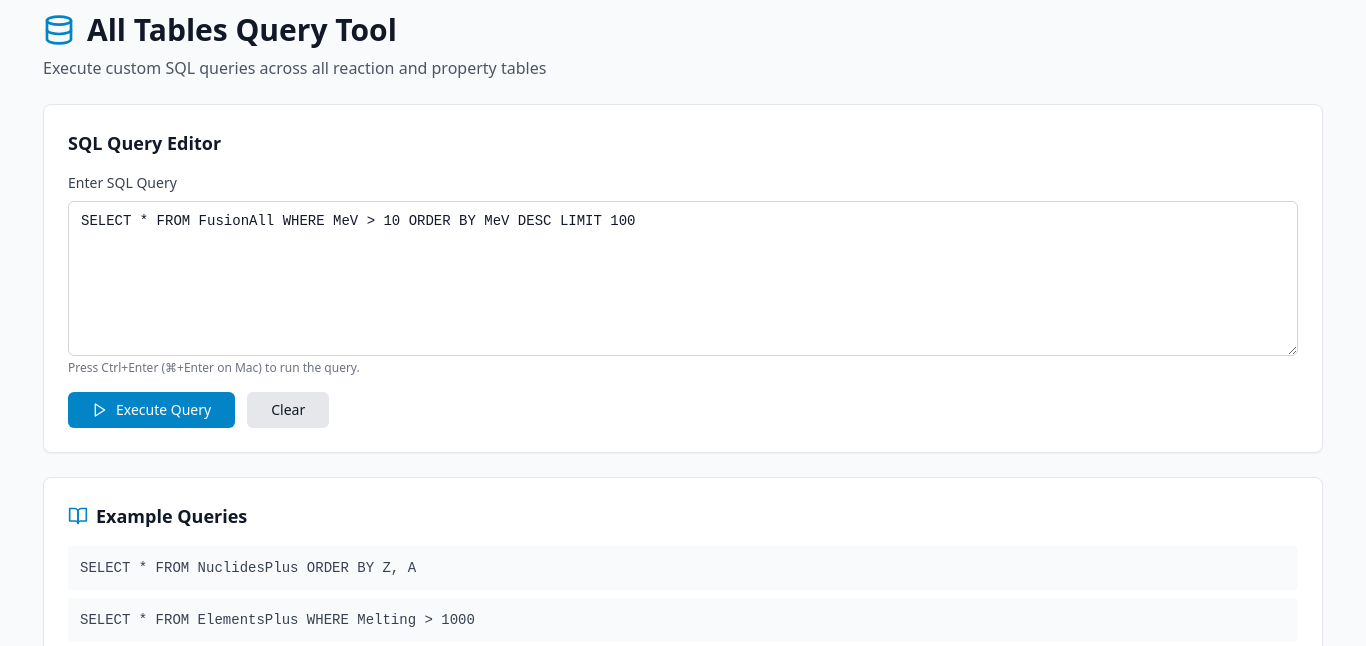
Scenario: AllTables › shows error for destructive queries
This screenshot has width=1366, height=646.
Replace the text in the text box with placeholder "SELECT * FROM TableName WHERE ..." with "DROP TABLE FusionAll" at {"x": 683, "y": 278}, box [68, 201, 1298, 356]
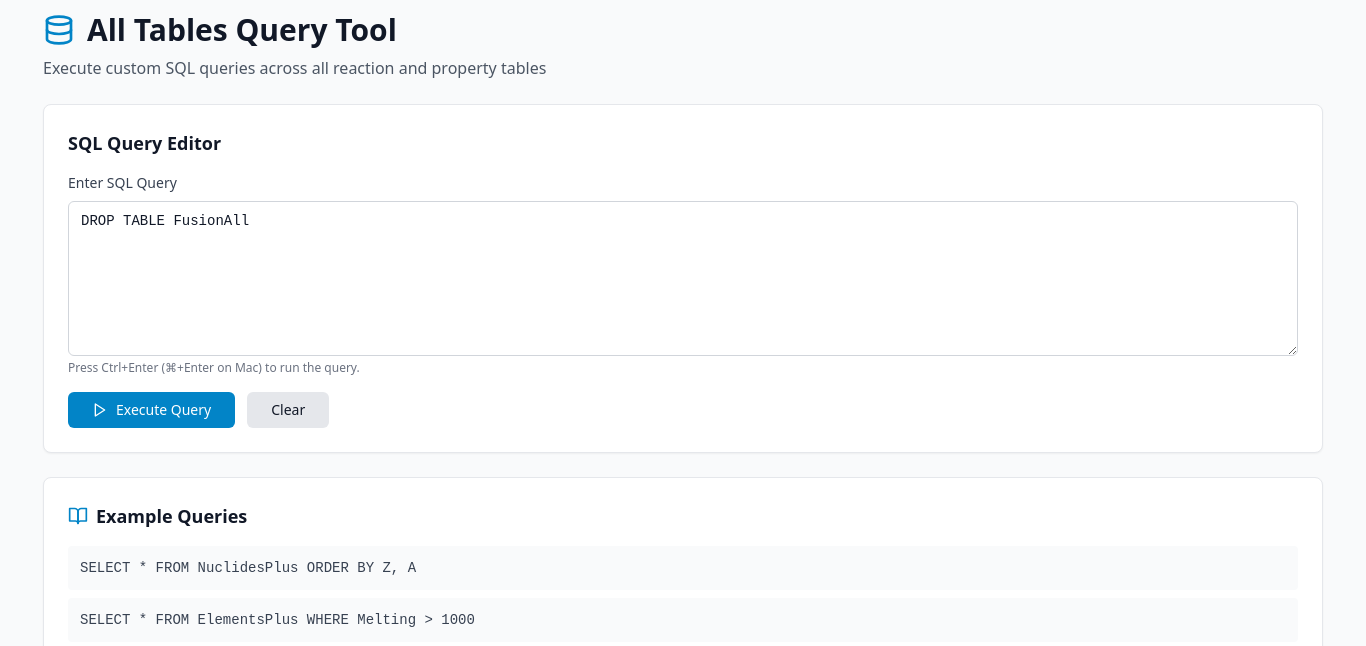
Click the button "Execute Query" at {"x": 152, "y": 410}, box [68, 392, 235, 428]
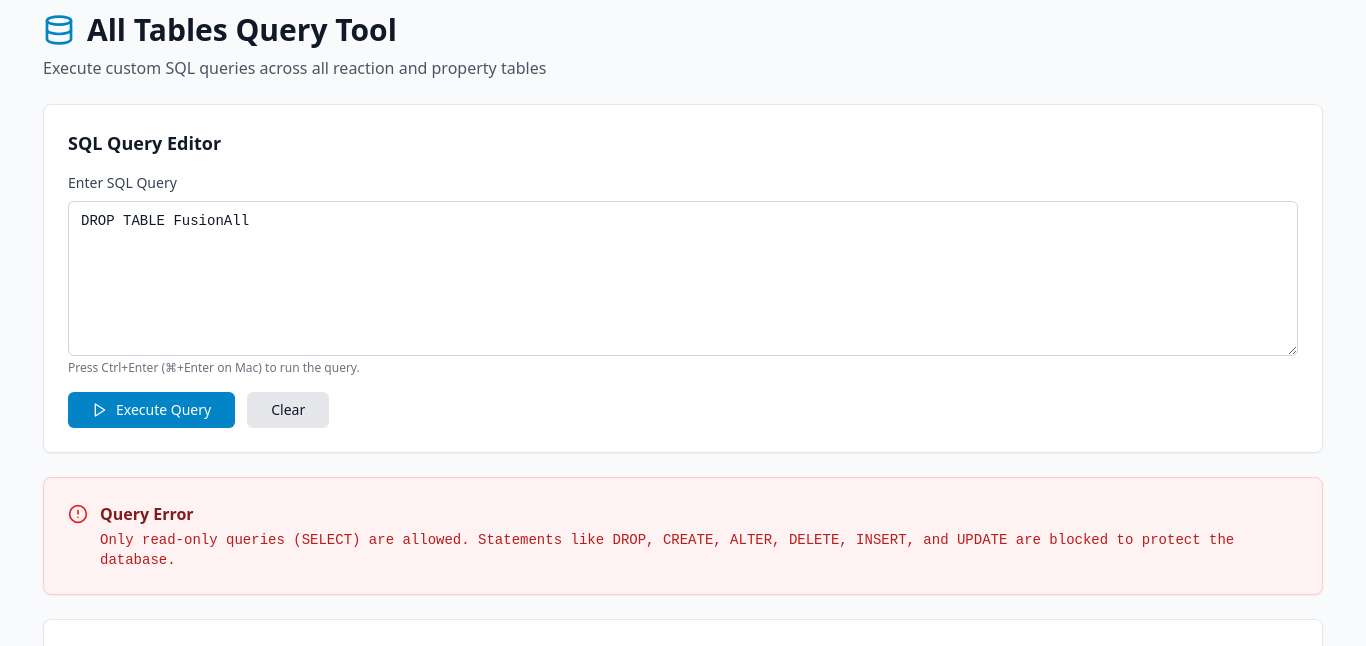
Now the text "Only read-only queries (SELECT) are allowed. Statements like DROP, CREATE, ALTER, DELETE, INSERT, and UPDATE are blocked" is shown, box [100, 532, 1234, 568]
